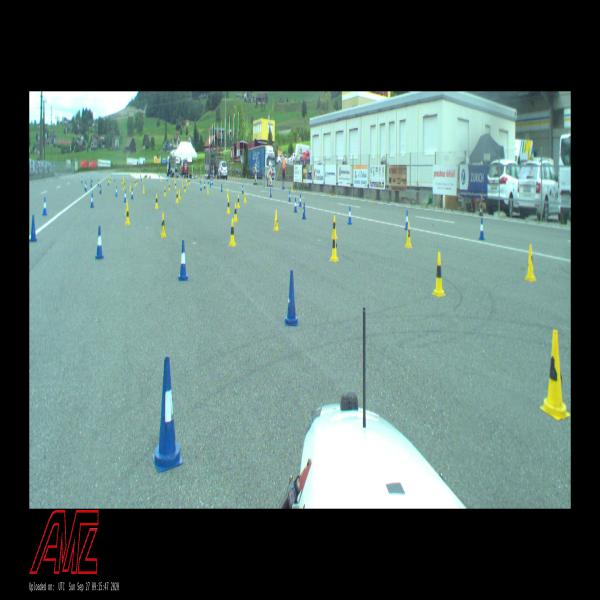blue_cone: (153, 358, 183, 471), (284, 270, 298, 326), (178, 240, 188, 280), (96, 226, 103, 260), (30, 215, 37, 241), (479, 218, 485, 240), (42, 197, 47, 215), (405, 210, 409, 230), (348, 206, 352, 225), (302, 202, 306, 219), (294, 198, 298, 212), (90, 192, 93, 207), (124, 190, 127, 203), (299, 194, 302, 207), (115, 186, 118, 196), (99, 184, 102, 194), (132, 188, 134, 199), (85, 183, 87, 192), (220, 184, 222, 192), (84, 181, 86, 189), (200, 183, 202, 190), (289, 190, 290, 201), (90, 179, 91, 188), (270, 189, 271, 197), (204, 181, 205, 189), (108, 177, 109, 184)
yellow_cone: (540, 330, 570, 420), (432, 252, 446, 298), (524, 244, 537, 282), (404, 222, 413, 248), (228, 219, 236, 246), (331, 232, 337, 264), (160, 212, 167, 238), (126, 204, 131, 225), (332, 214, 336, 237), (274, 210, 278, 231), (226, 197, 231, 213), (234, 203, 238, 222), (155, 194, 159, 209), (125, 199, 128, 216), (237, 194, 240, 208), (176, 190, 179, 203), (179, 188, 181, 199), (164, 186, 166, 196), (227, 188, 229, 198), (184, 184, 186, 193), (207, 186, 209, 194), (143, 185, 145, 193), (130, 184, 132, 192), (245, 192, 246, 203), (169, 183, 170, 190), (175, 182, 176, 188), (187, 180, 188, 185)
